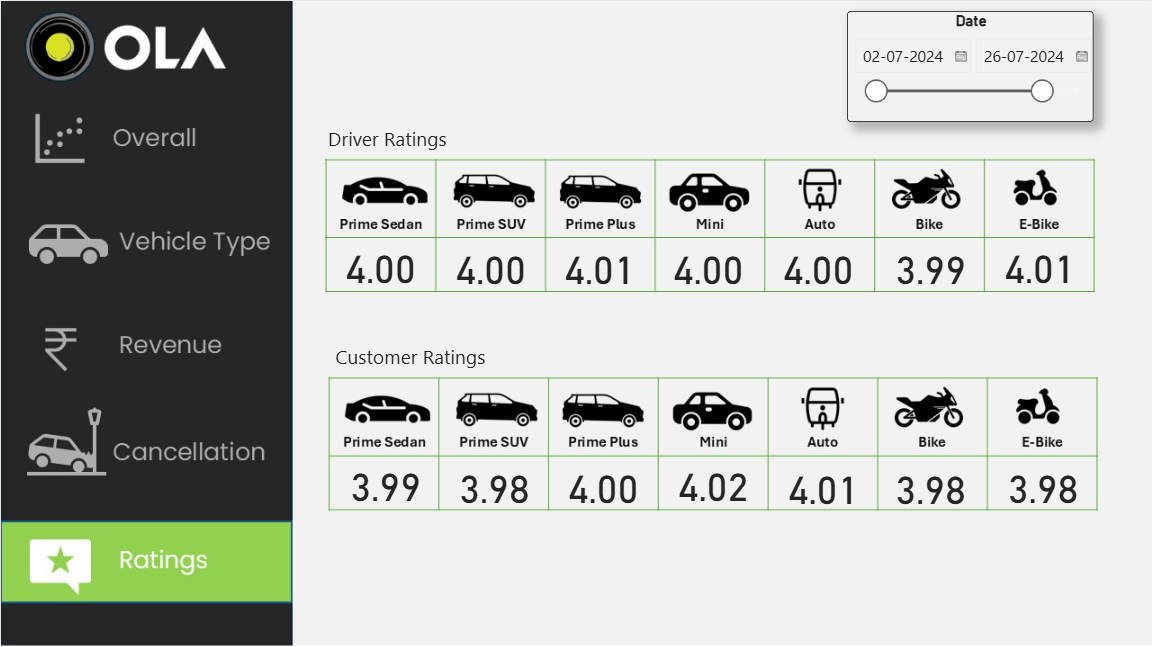

What the dashboard file says about the page in this screenshot:
{"tool":"powerbi","page":{"name":"Ratings","canvas":[1280,720],"ordinal":4},"visuals":[{"type":"actionButton","box":[0,444.1,326.5,92.6],"z":0},{"type":"actionButton","box":[0,336.8,326.5,95.6],"z":1000},{"type":"actionButton","box":[0,217.6,326.5,91.2],"z":2000},{"type":"actionButton","box":[0,105.9,326.5,97.1],"z":3000},{"type":"card","fields":{"Values":["Avg(booking123.Driver_Ratings)"]},"box":[367,269.7,110.7,47.3],"z":3001},{"type":"card","fields":{"Values":["Avg(booking123.Driver_Ratings)"]},"box":[488.9,271.1,111.1,46.7],"z":3002},{"type":"card","fields":{"Values":["Avg(booking123.Driver_Ratings)"]},"box":[610,271.1,111.1,46.7],"z":3003},{"type":"card","fields":{"Values":["Avg(booking123.Driver_Ratings)"]},"box":[731.1,271.1,111.1,46.7],"z":3004},{"type":"card","fields":{"Values":["Avg(booking123.Driver_Ratings)"]},"box":[852.2,271.1,111.1,46.7],"z":3005},{"type":"card","fields":{"Values":["Avg(booking123.Driver_Ratings)"]},"box":[977.8,271.1,111.1,46.7],"z":3006},{"type":"card","fields":{"Values":["Avg(booking123.Driver_Ratings)"]},"box":[1098.9,270,111.1,46.7],"z":3007},{"type":"textbox","box":[358.9,133.3,150,42.2],"z":3008},{"type":"textbox","box":[366.7,375.6,186.7,42.2],"z":3009},{"type":"card","fields":{"Values":["Avg(booking123.Customer_Rating)"]},"box":[371.6,513.2,111.1,46.8],"z":3010},{"type":"card","fields":{"Values":["Avg(booking123.Customer_Rating)"]},"box":[493.2,513.7,111.1,46.8],"z":3011},{"type":"card","fields":{"Values":["Avg(booking123.Customer_Rating)"]},"box":[614.2,514.2,111.1,46.8],"z":3012},{"type":"card","fields":{"Values":["Avg(booking123.Customer_Rating)"]},"box":[735.8,513.2,111.1,46.8],"z":3013},{"type":"card","fields":{"Values":["Avg(booking123.Customer_Rating)"]},"box":[858.4,514.7,111.1,46.8],"z":3014},{"type":"card","fields":{"Values":["Avg(booking123.Customer_Rating)"]},"box":[977.9,515.3,111.1,46.8],"z":3015},{"type":"card","fields":{"Values":["Avg(booking123.Customer_Rating)"]},"box":[1102.6,514.2,111.1,46.8],"z":3016},{"type":"slicer","title":"Date","fields":{"Values":["booking123.Date"]},"box":[940,10.8,273.8,123.1],"z":3017}]}

Visuals, with their boxes in screenshot pixels (x1, y1, x2, y2), scaled from the page's 1280x720 canvas onto the 1152x647 screenshot:
actionButton: box(0, 399, 294, 482)
actionButton: box(0, 303, 294, 389)
actionButton: box(0, 196, 294, 277)
actionButton: box(0, 95, 294, 182)
card - Avg(booking123.Driver_Ratings): box(330, 242, 430, 285)
card - Avg(booking123.Driver_Ratings): box(440, 244, 540, 286)
card - Avg(booking123.Driver_Ratings): box(549, 244, 649, 286)
card - Avg(booking123.Driver_Ratings): box(658, 244, 758, 286)
card - Avg(booking123.Driver_Ratings): box(767, 244, 867, 286)
card - Avg(booking123.Driver_Ratings): box(880, 244, 980, 286)
card - Avg(booking123.Driver_Ratings): box(989, 243, 1089, 285)
textbox: box(323, 120, 458, 158)
textbox: box(330, 338, 498, 375)
card - Avg(booking123.Customer_Rating): box(334, 461, 434, 503)
card - Avg(booking123.Customer_Rating): box(444, 462, 544, 504)
card - Avg(booking123.Customer_Rating): box(553, 462, 653, 504)
card - Avg(booking123.Customer_Rating): box(662, 461, 762, 503)
card - Avg(booking123.Customer_Rating): box(773, 463, 873, 505)
card - Avg(booking123.Customer_Rating): box(880, 463, 980, 505)
card - Avg(booking123.Customer_Rating): box(992, 462, 1092, 504)
"Date" slicer: box(846, 10, 1092, 120)
